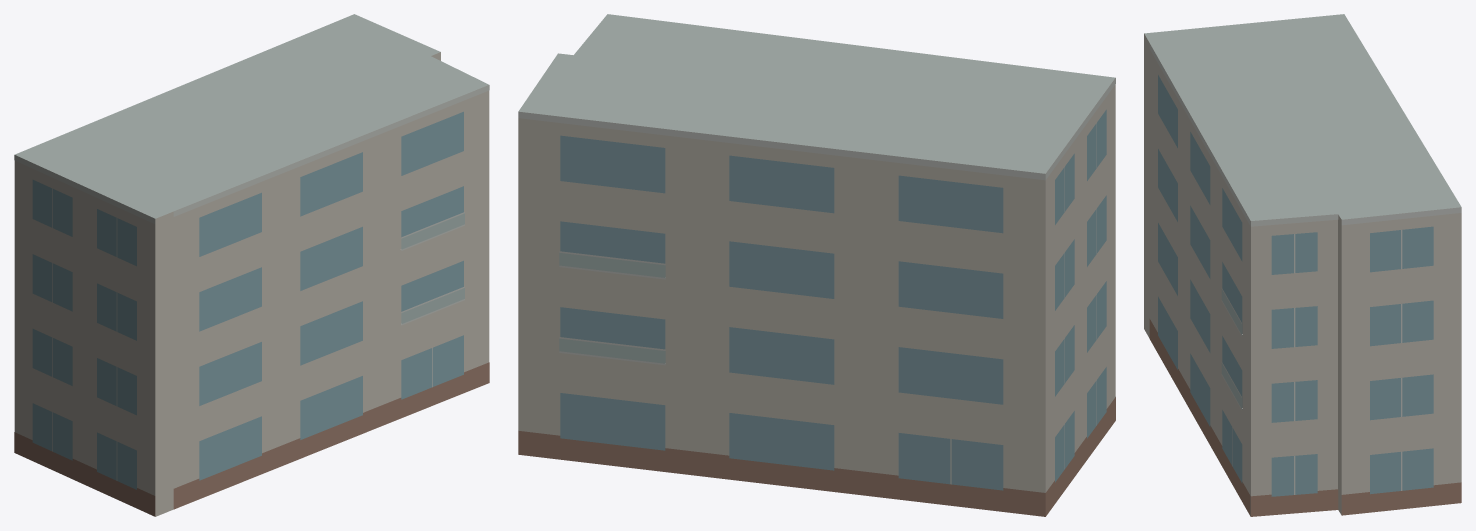
The model's file is survey-upis-32649463.glb.
3 renders of one model, left to right at view 1: azimuth 30°, elevation 25°; view 2: azimuth 150°, elevation 25°; view 3: azimuth 270°, elevation 25°, orthographic. The views are drawn at different scales.
Parts seen in each view (by area): view 1: survey-upis-32649463.tmp; view 2: survey-upis-32649463.tmp; view 3: survey-upis-32649463.tmp.
Boxes of the visible parts, <box> form: survey-upis-32649463.tmp: <box>14,14,489,516</box>; survey-upis-32649463.tmp: <box>518,14,1115,516</box>; survey-upis-32649463.tmp: <box>1144,14,1461,516</box>.
Size of the model in its own units: 19.38 by 12.9 by 12.56.
